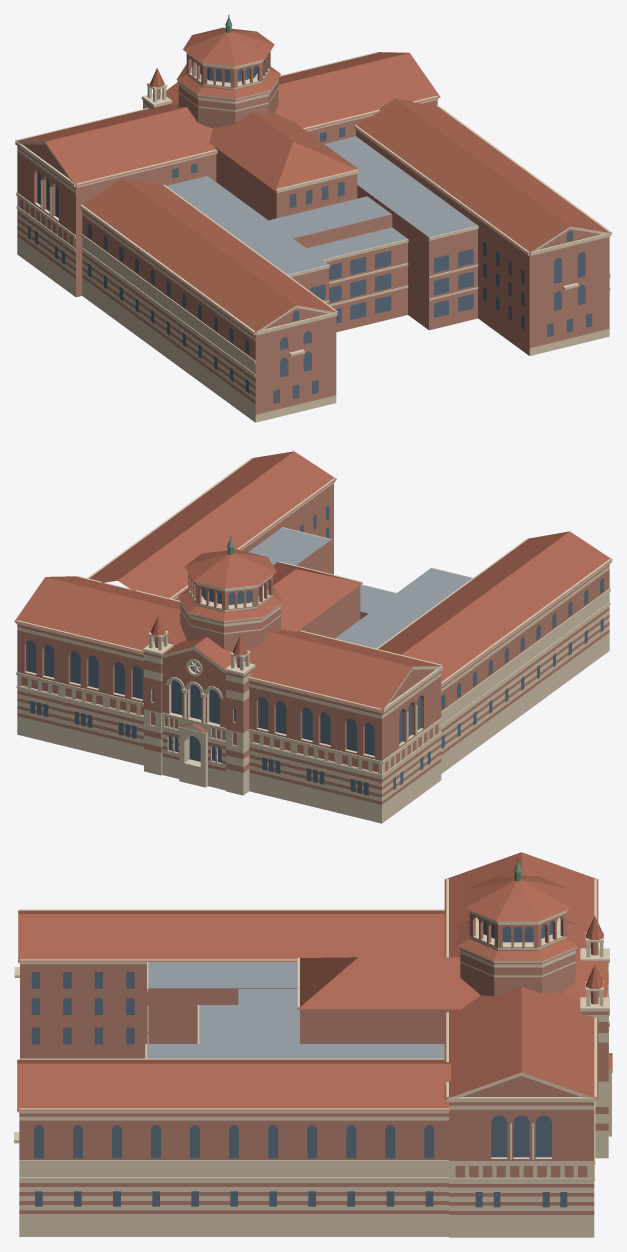
The model's file is la-powell-library.glb.
3 views of the same model, one above another, from view 1: azimuth 30°, elevation 25°; view 2: azimuth 150°, elevation 25°; view 3: azimuth 270°, elevation 25° (orthographic). The views are drawn at different scales.
Visible parts, largest first — view 1: Powell Library; view 2: Powell Library; view 3: Powell Library.
Boxes of the visible parts, box(x1,y1,x2,y2) form: Powell Library: box(15, 14, 612, 422); Powell Library: box(14, 451, 612, 823); Powell Library: box(14, 852, 612, 1237).
Size of the model in its own units: 67.9 by 38.8 by 77.95.
